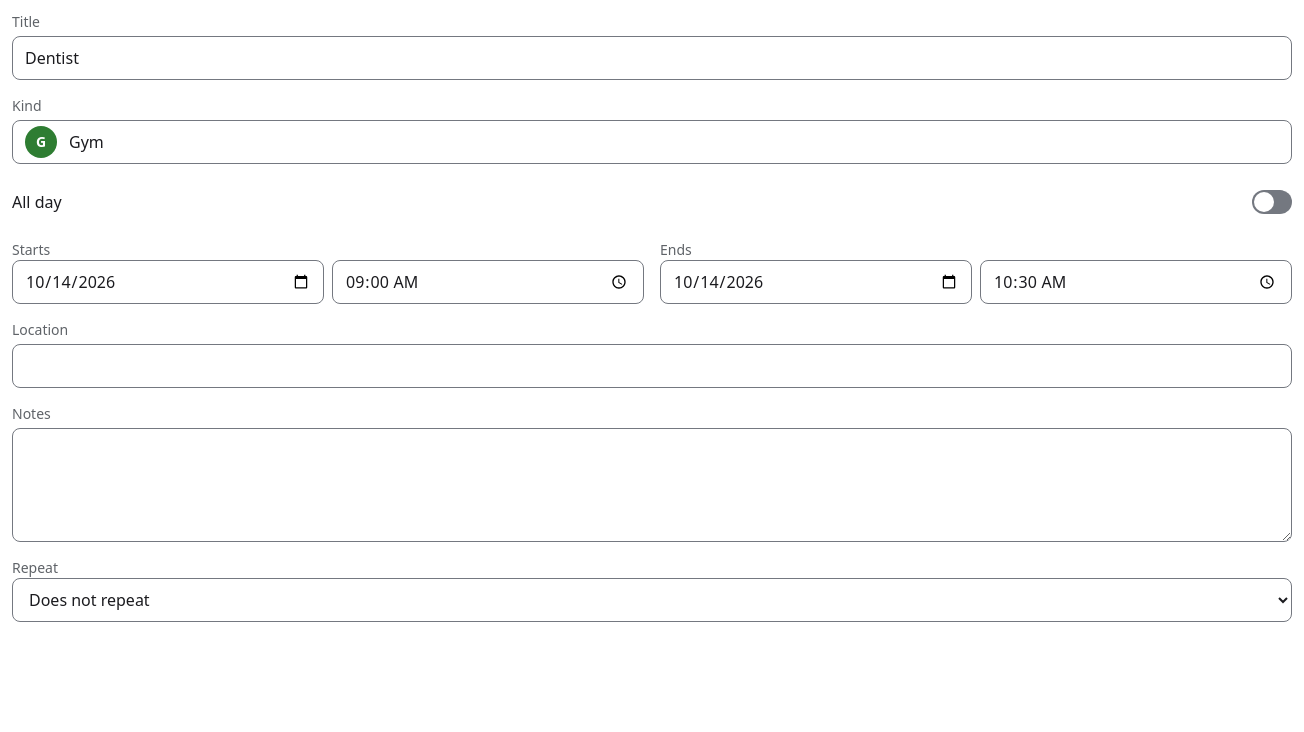
All day (AC-3, Block 4) › switching off again brings the time inputs back with the kept times
Click the switch labelled "All day" at [37, 202], box [12,180,1292,224]
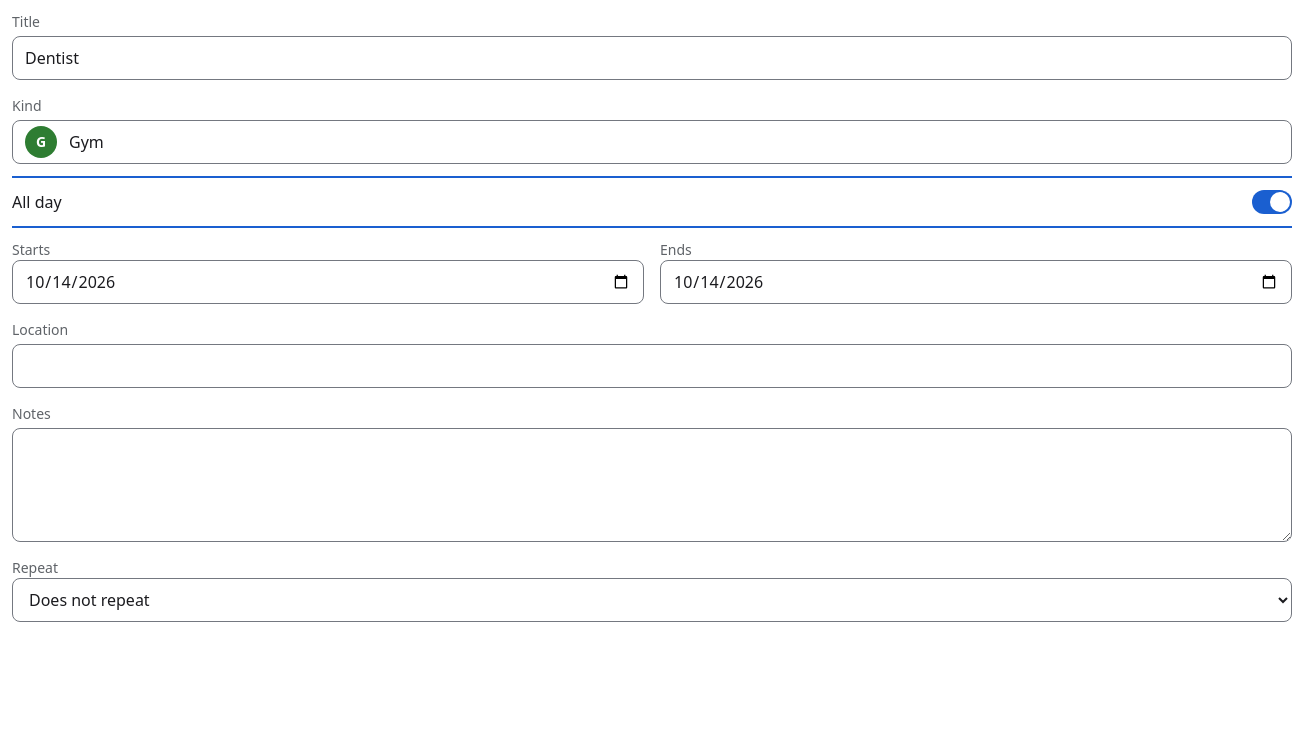
Click the switch labelled "All day" at [37, 202], box [12,180,1292,224]
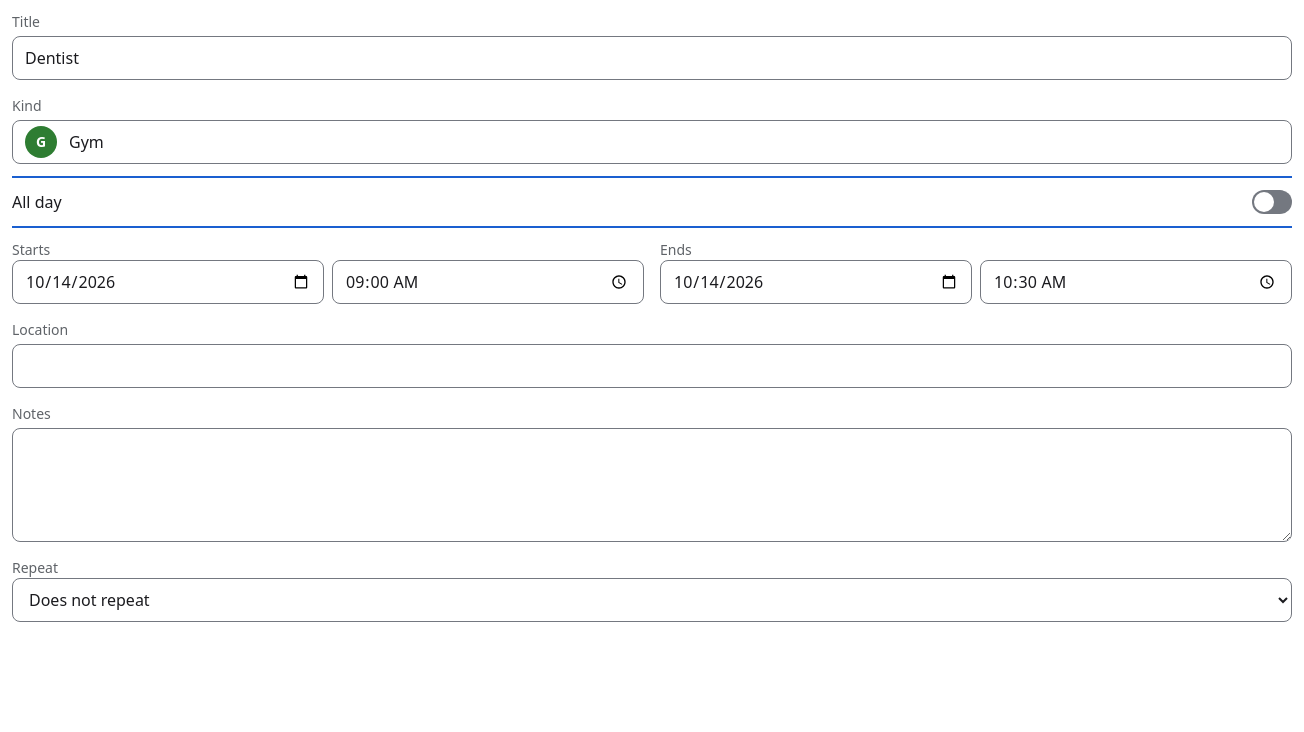
Now the time field named "Start time" holds "09:00", box [332,260,644,304]
Now the time field named "End time" holds "10:30", box [980,260,1292,304]
